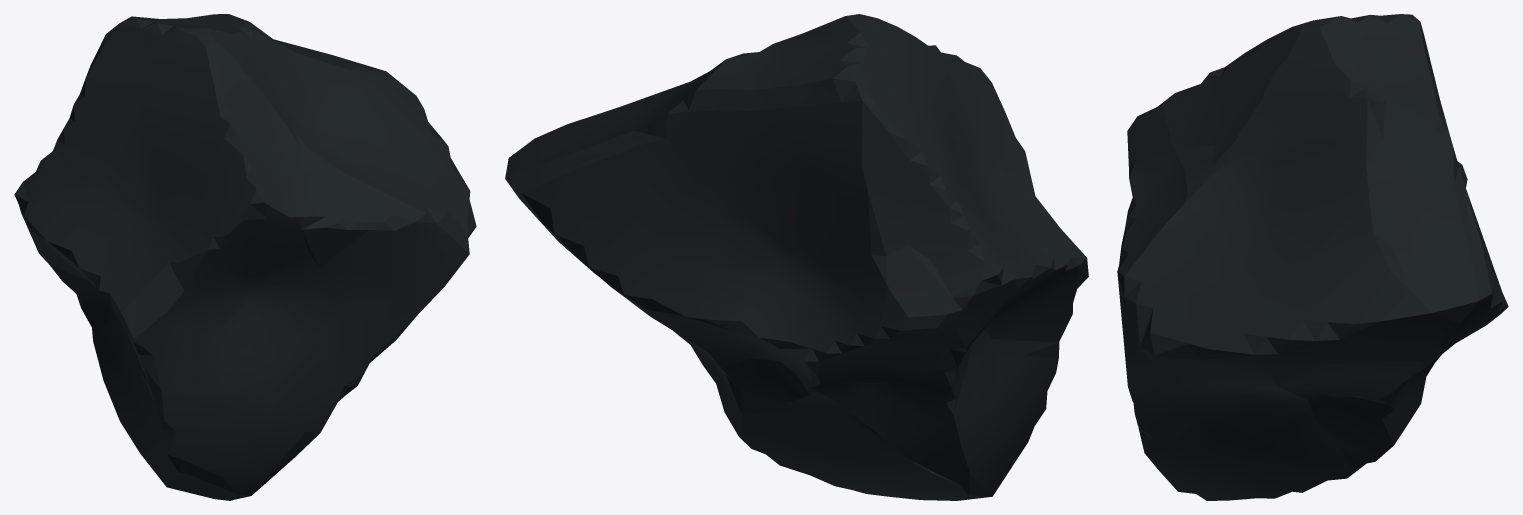
Rendered from Asteroid_l_07.FBX.
3 renders of one model, left to right at view 1: azimuth 30°, elevation 25°; view 2: azimuth 150°, elevation 25°; view 3: azimuth 270°, elevation 25°, orthographic. The views are drawn at different scales.
Visible parts, largest first — view 1: Asteroid_l_07; view 2: Asteroid_l_07; view 3: Asteroid_l_07.
Part boxes in pixels (x1,y1,x2,y2): Asteroid_l_07: [14, 14, 476, 500]; Asteroid_l_07: [505, 14, 1088, 500]; Asteroid_l_07: [1117, 14, 1508, 500].
Size of the model in its own units: 1103 by 1139 by 826.
